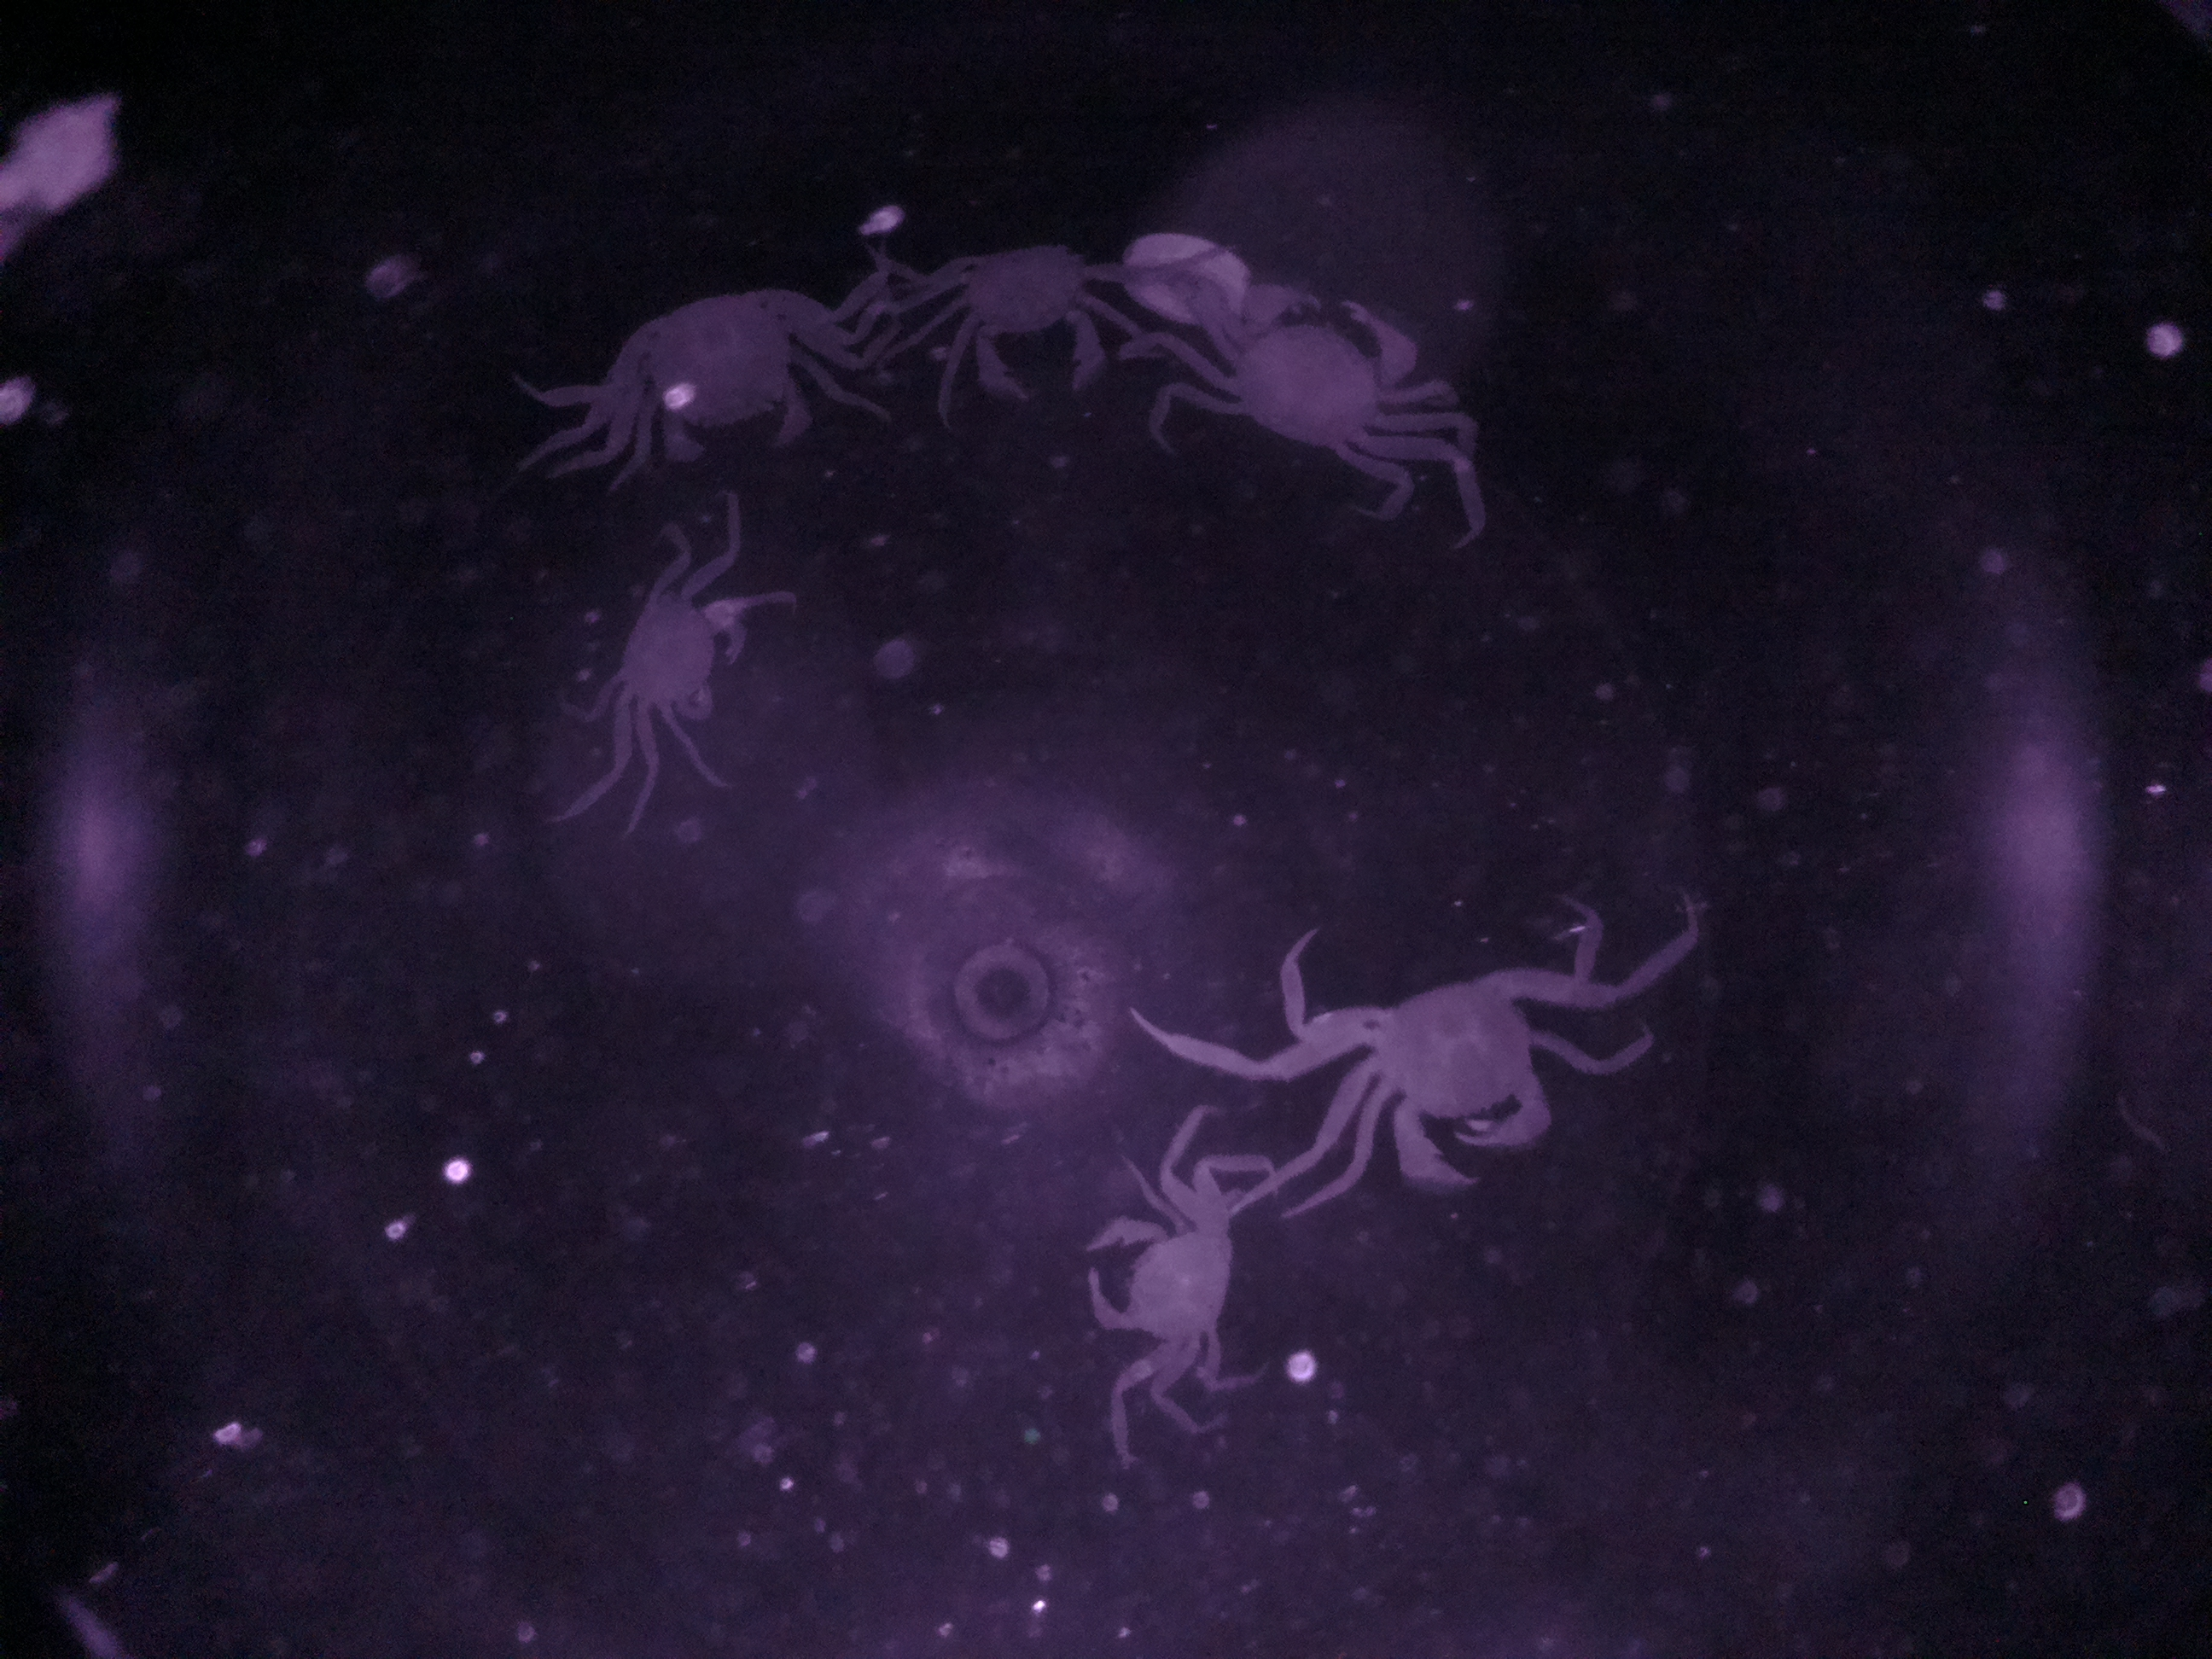Crab: (1270, 920, 1618, 1227), (589, 279, 878, 483), (911, 214, 1163, 427), (1054, 1162, 1277, 1401), (1186, 281, 1442, 472), (589, 540, 759, 749)
